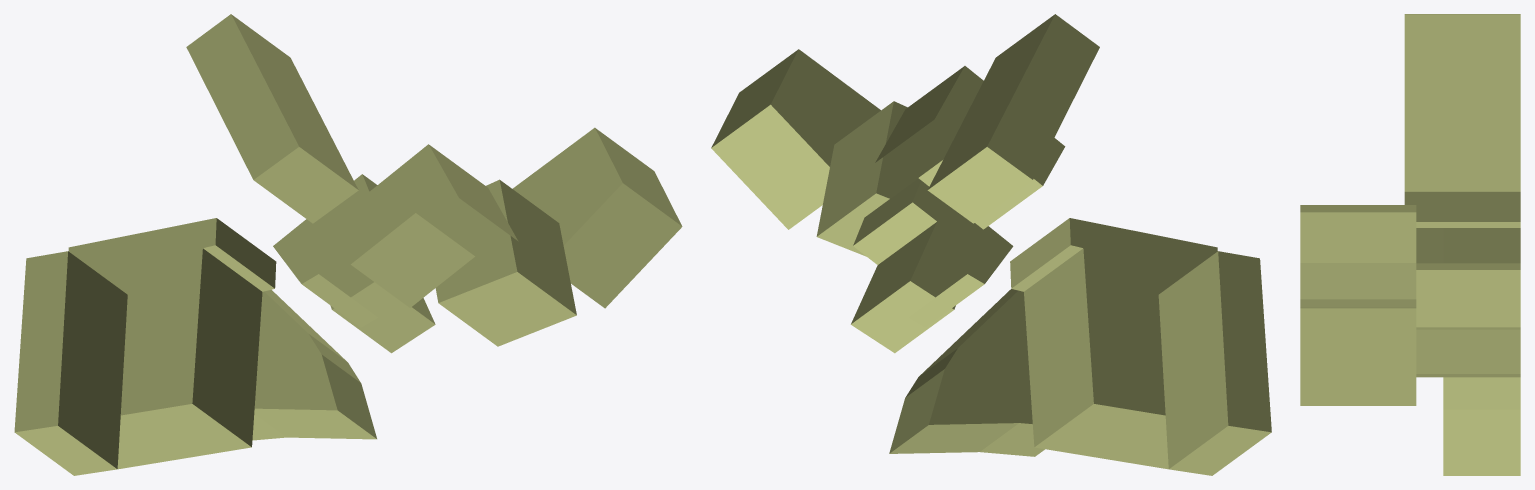
3 renders of one model, left to right at view 1: azimuth 30°, elevation 25°; view 2: azimuth 150°, elevation 25°; view 3: azimuth 270°, elevation 25°, orthographic. The views are drawn at different scales.
Visible parts, largest first — view 1: 0_0_1_2_0_0_0_2_2; view 2: 0_0_1_2_0_0_0_2_2; view 3: 0_0_1_2_0_0_0_2_2.
Boxes of the visible parts, x1,y1,x2,y2 form: 0_0_1_2_0_0_0_2_2: [14, 14, 682, 475]; 0_0_1_2_0_0_0_2_2: [711, 14, 1271, 475]; 0_0_1_2_0_0_0_2_2: [1300, 14, 1520, 475].
Bounding box in the file's own units: 48.38 × 35.2 × 17.1.
